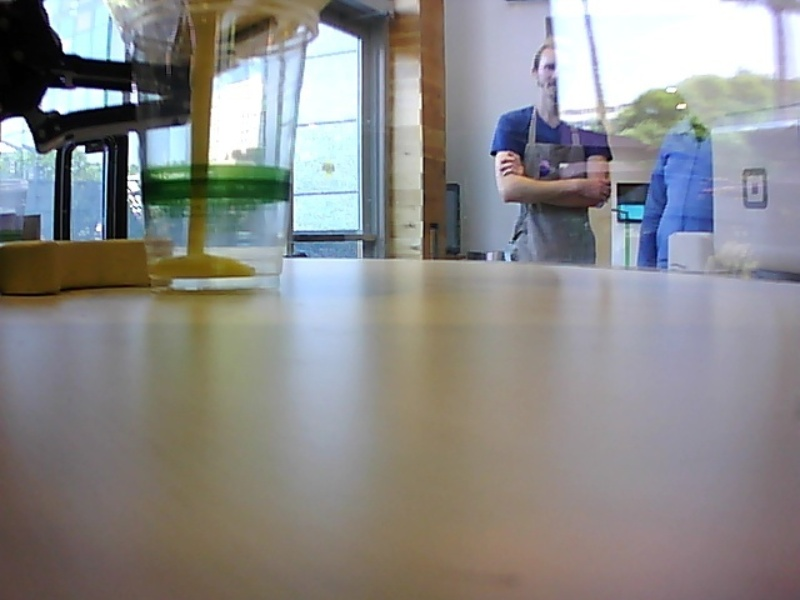cup: (114, 1, 323, 298)
limit: (145, 244, 285, 273)
